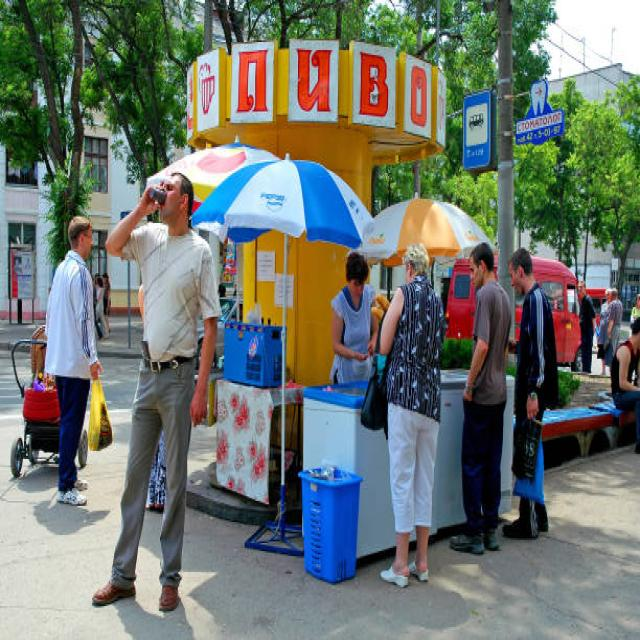Emperan: (213, 191, 558, 586)
